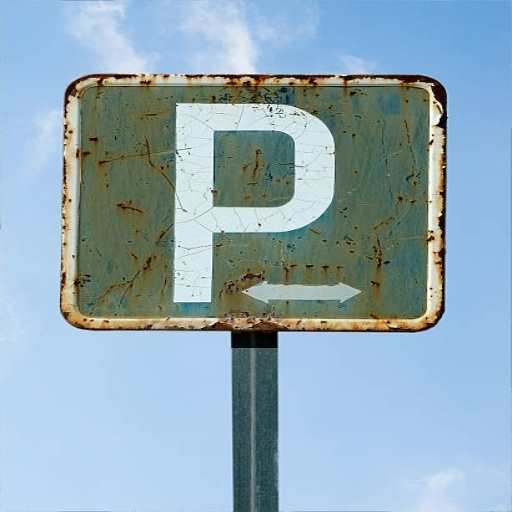Parking: (134, 88, 373, 311)
